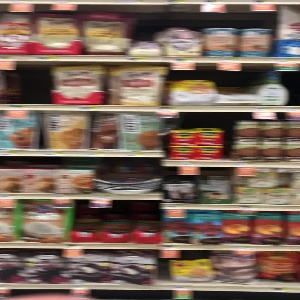void: (1, 60, 48, 109), (218, 65, 259, 107)
